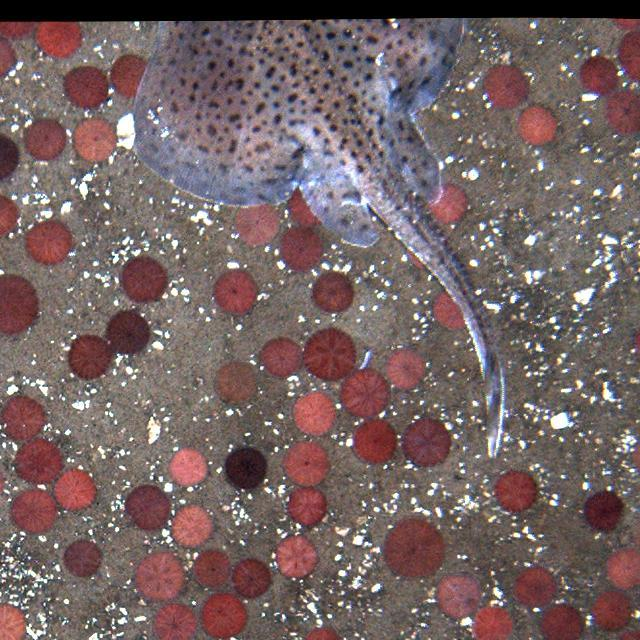skate: (130, 25, 514, 463)
